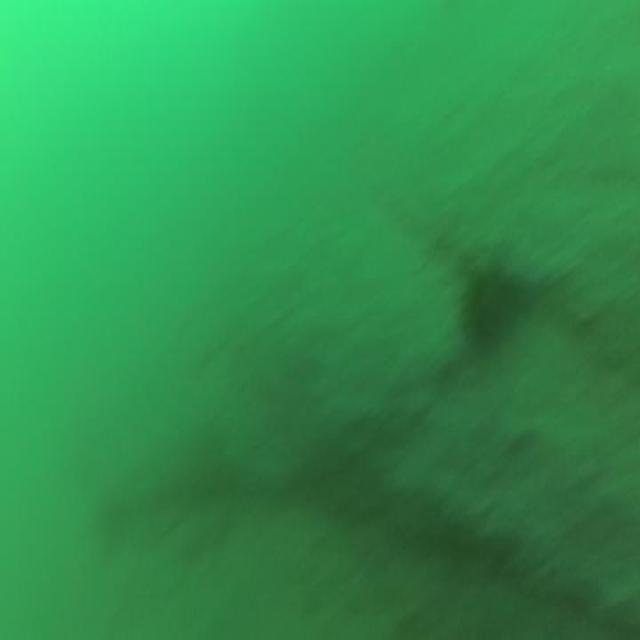echinus: (455, 258, 525, 357)
